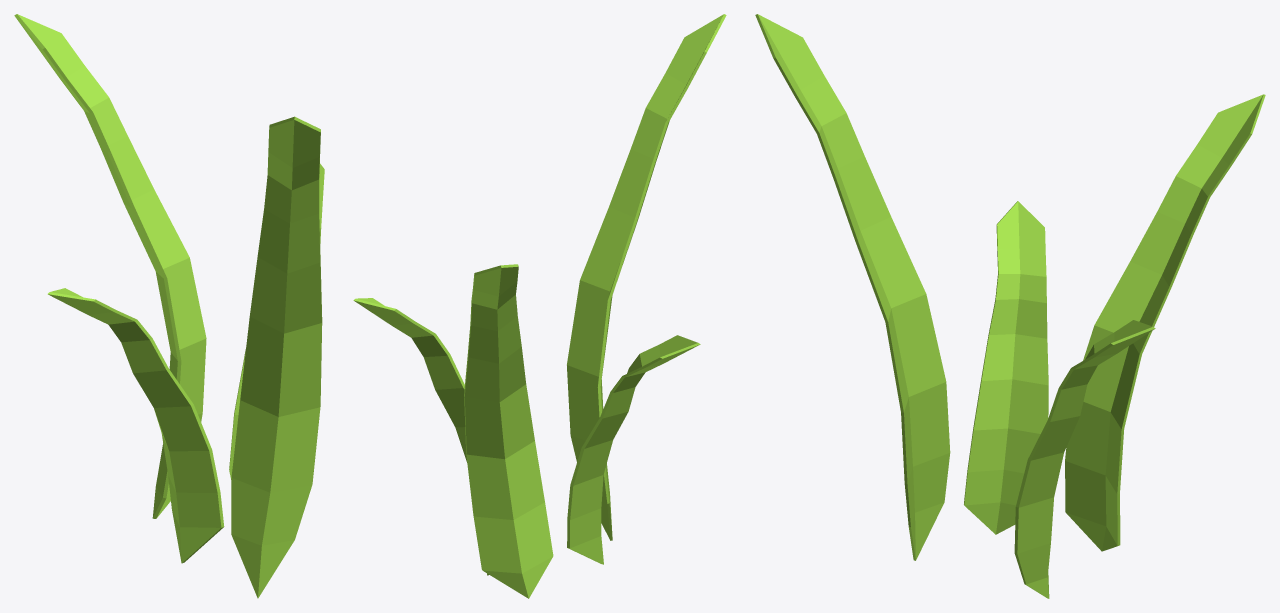
The model's file is LittleGrassLight.fbx.
3 views of the same model, side by side, from view 1: azimuth 30°, elevation 25°; view 2: azimuth 150°, elevation 25°; view 3: azimuth 270°, elevation 25° (orthographic). The views are drawn at different scales.
Visible parts, largest first — view 1: little grass Light; view 2: little grass Light; view 3: little grass Light.
Part boxes in pixels (x1,y1,x2,y2): little grass Light: (14, 14, 324, 598); little grass Light: (353, 14, 726, 598); little grass Light: (755, 14, 1265, 598).
Bounding box in the file's own units: 143 × 101 × 164.
